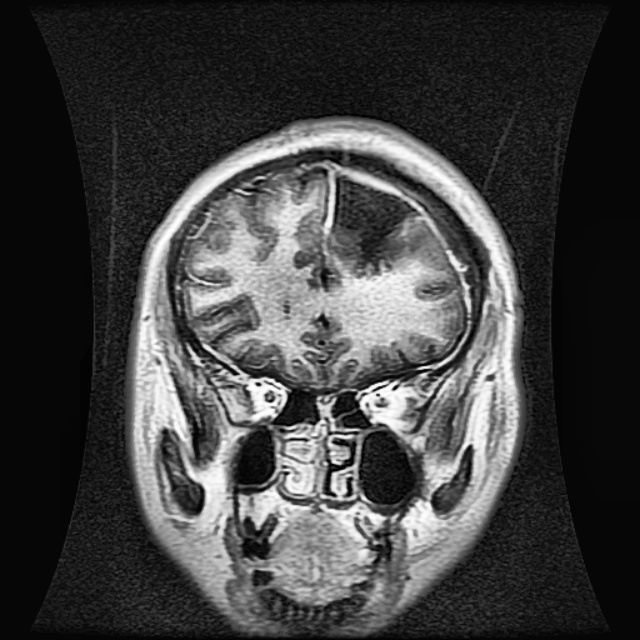Meningioma: (329, 174, 419, 268)
